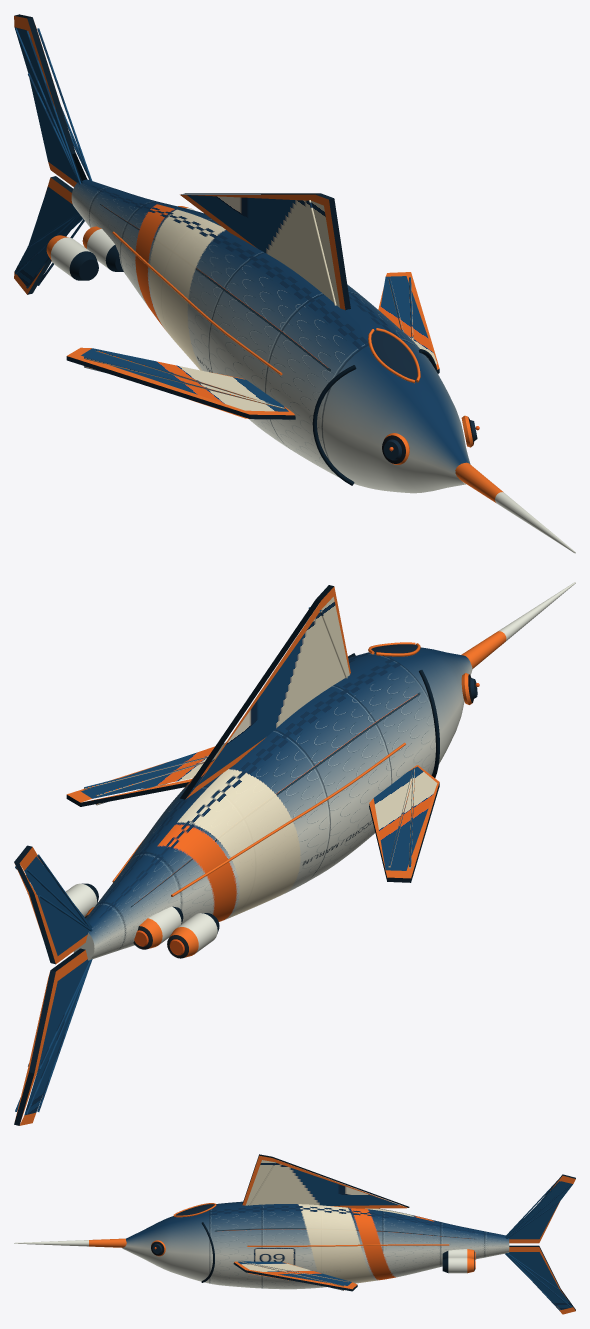
3 renders of one model, top to bottom at view 1: azimuth 30°, elevation 25°; view 2: azimuth 150°, elevation 25°; view 3: azimuth 270°, elevation 25°, orthographic. The views are drawn at different scales.
Parts seen in each view (by area): view 1: marlin_hull; view 2: marlin_hull; view 3: marlin_hull.
Part boxes in pixels (x1,y1,x2,y2): marlin_hull: [14, 14, 575, 553]; marlin_hull: [14, 582, 575, 1125]; marlin_hull: [14, 1154, 575, 1314].
Size of the model in its own units: 29.91 by 26.23 by 84.
1 material, 1 textured.
